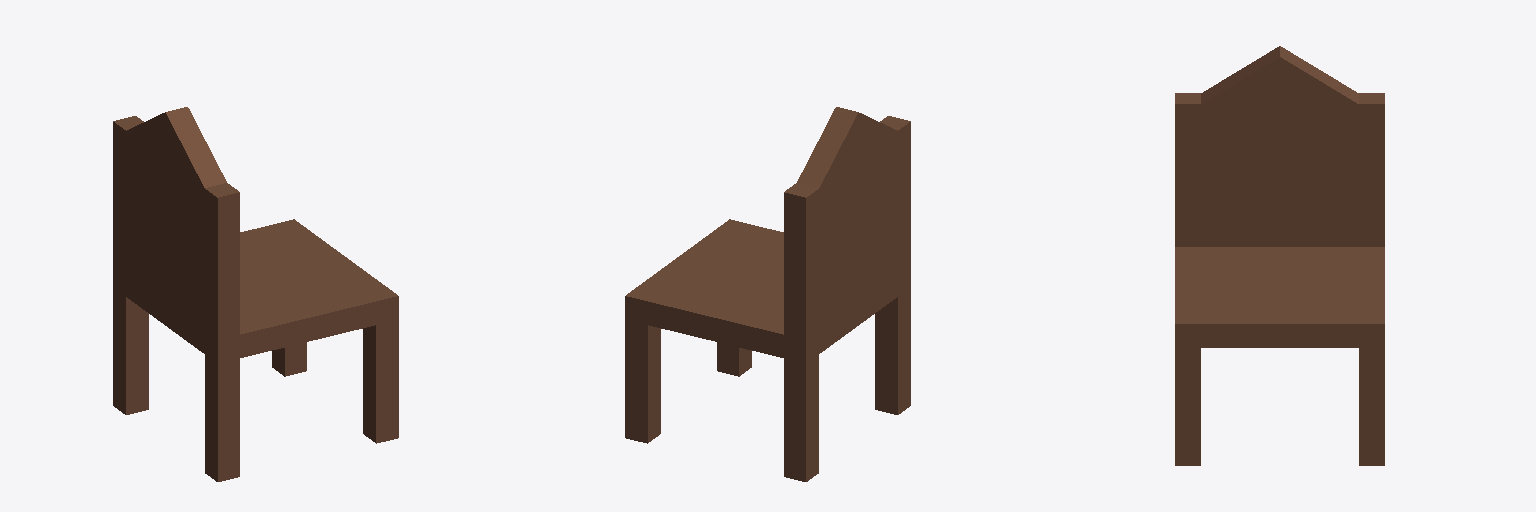
The model's file is dine_chair.obj.
3 renders of one model, left to right at view 1: azimuth 30°, elevation 25°; view 2: azimuth 150°, elevation 25°; view 3: azimuth 270°, elevation 25°, orthographic.
Parts seen in each view (by area): view 1: chair_mesh_Cube; view 2: chair_mesh_Cube; view 3: chair_mesh_Cube.
Part boxes in pixels (left/top/right/bottom): chair_mesh_Cube: left=113, top=107, right=398, bottom=481; chair_mesh_Cube: left=625, top=107, right=910, bottom=481; chair_mesh_Cube: left=1175, top=46, right=1384, bottom=465.
Size of the model in its own units: 0.4 by 0.7 by 0.4.